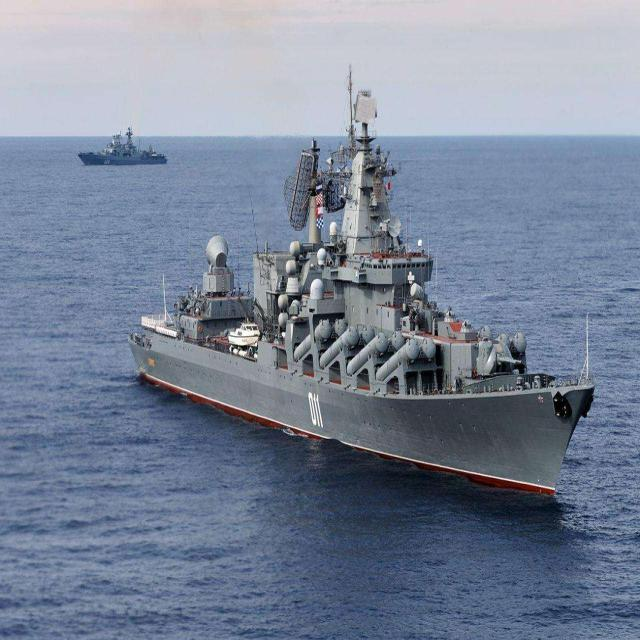navalvessels: (123, 89, 585, 529), (65, 105, 180, 173)
